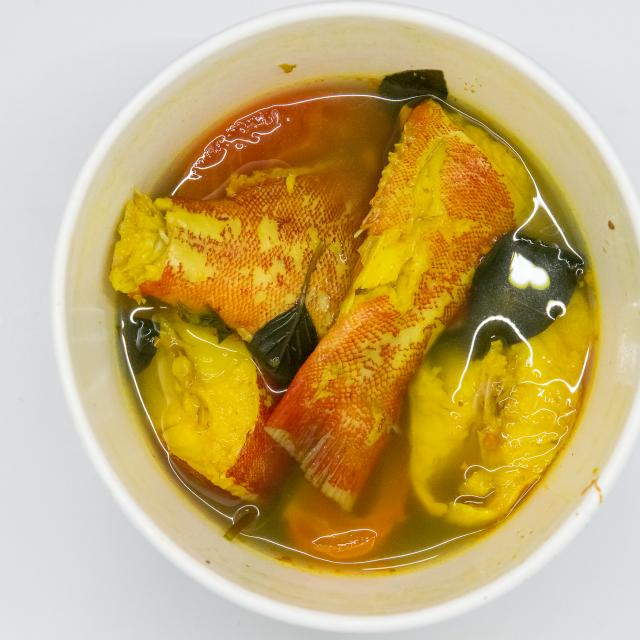Gulai-Ikan-Mas: (103, 71, 604, 549)
